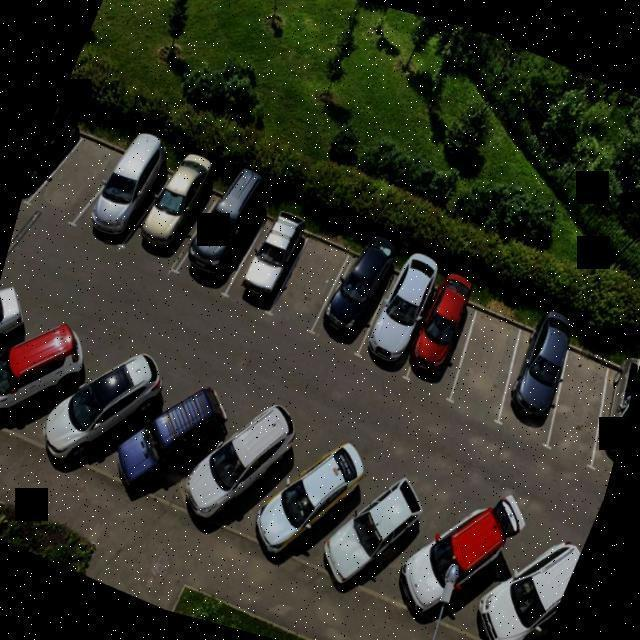empty: (442, 296, 534, 426), (33, 120, 127, 242), (538, 342, 631, 464), (268, 226, 358, 344)
occupied: (391, 269, 496, 407), (483, 314, 588, 450), (81, 134, 175, 259), (127, 156, 222, 276), (310, 236, 398, 364), (175, 188, 264, 304), (222, 207, 309, 321), (356, 258, 440, 376), (576, 356, 640, 483)
